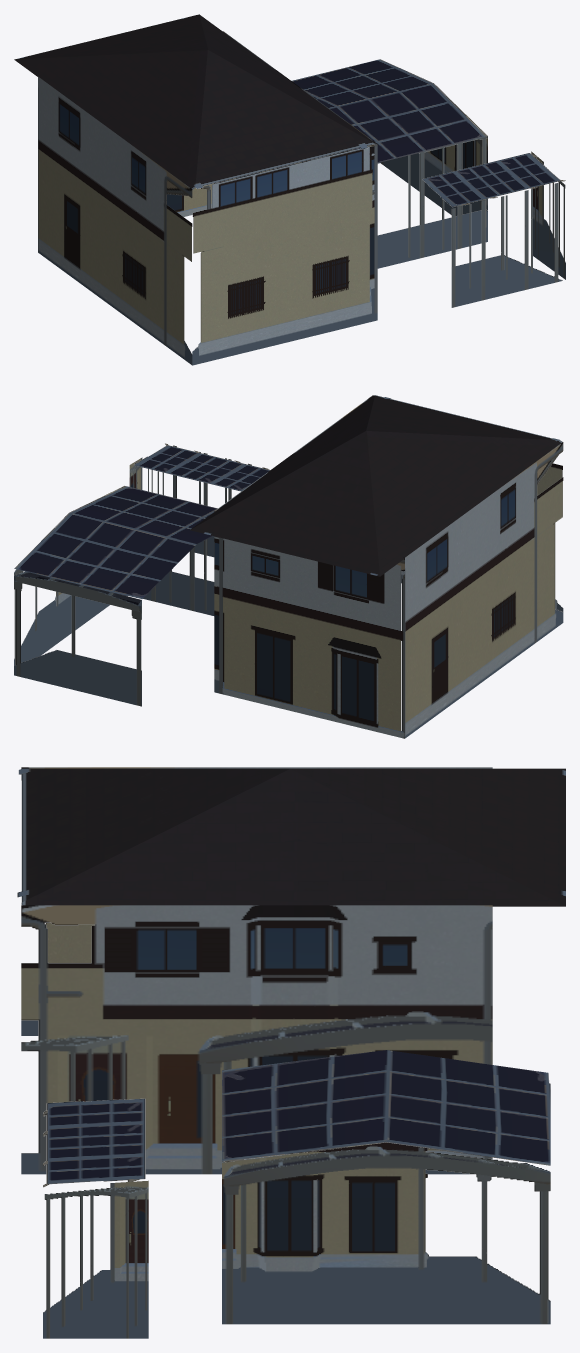
Rendered from house12_low.fbx.
3 renders of one model, top to bottom at view 1: azimuth 30°, elevation 25°; view 2: azimuth 150°, elevation 25°; view 3: azimuth 270°, elevation 25°, orthographic. The views are drawn at different scales.
Parts seen in each view (by area): view 1: pCube194; view 2: pCube194; view 3: pCube194.
Boxes of the visible parts, box(x1,y1,x2,y2) form: pCube194: box(14, 14, 565, 365); pCube194: box(14, 395, 563, 738); pCube194: box(17, 767, 565, 1338).
Bounding box in the file's own units: 23.35 × 13.96 × 19.22.
